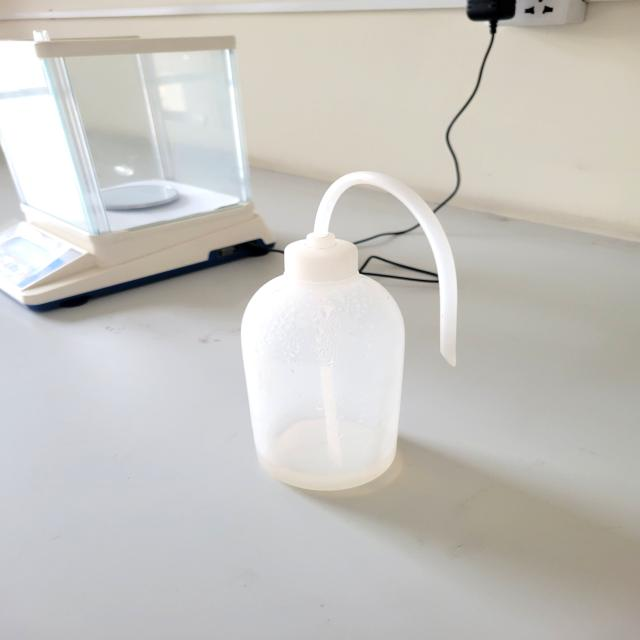Wash_Bottle: (227, 164, 496, 523)
